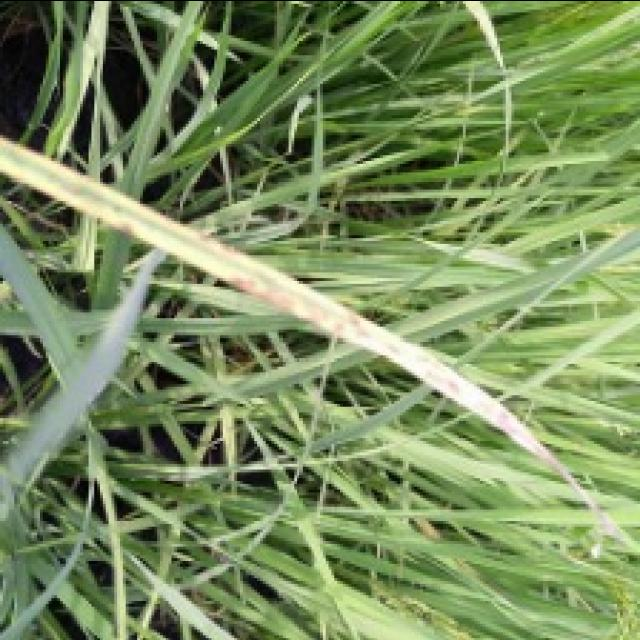Unhealthy: (220, 275, 298, 308), (425, 368, 461, 396), (347, 312, 374, 338), (305, 307, 329, 324), (385, 340, 402, 353), (333, 322, 343, 334)
